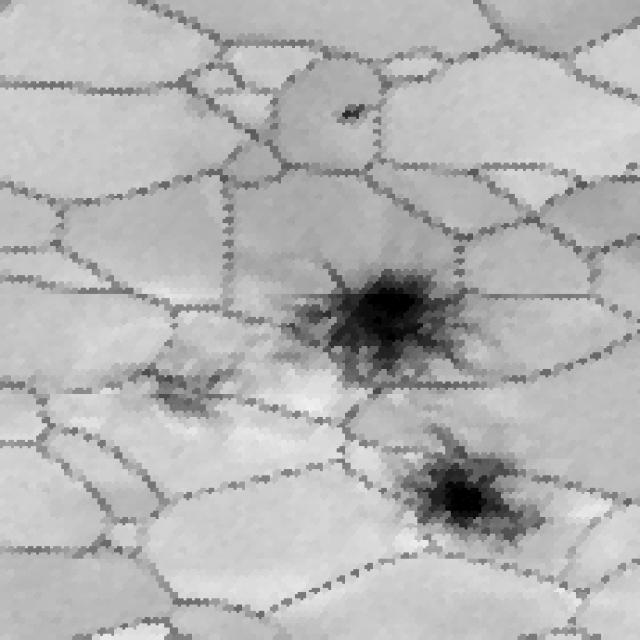good_void: (282, 257, 494, 400), (368, 419, 550, 553), (136, 353, 244, 429), (325, 96, 376, 130), (625, 158, 640, 175)
